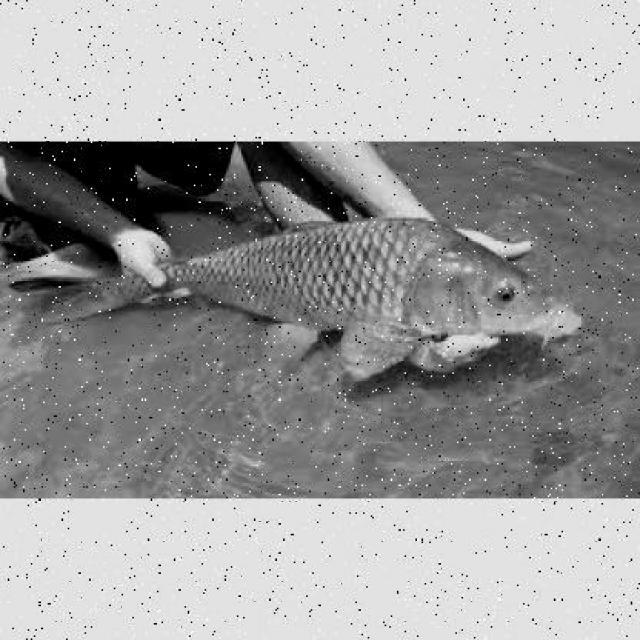ikan-mas: (84, 213, 580, 344)
